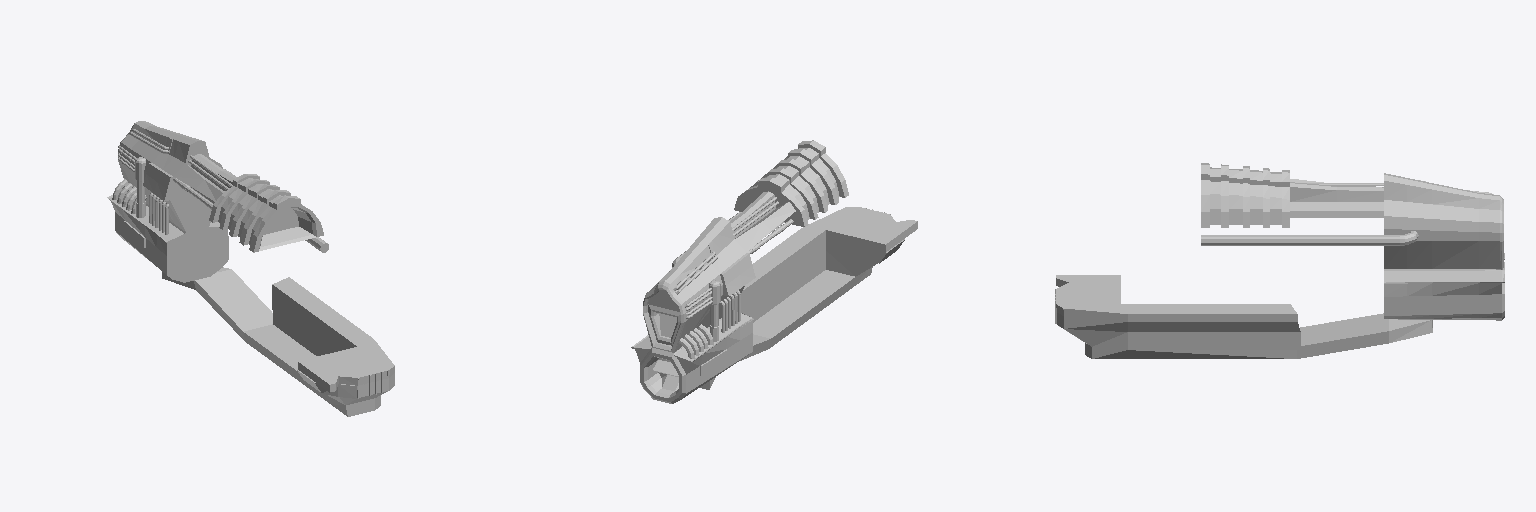
The model's file is Ship_shell.obj.
The picture shows the model from 3 angles: view 1: azimuth 30°, elevation 25°; view 2: azimuth 150°, elevation 25°; view 3: azimuth 270°, elevation 25°; orthographic projection.
Visible parts, largest first — view 1: pCylinder50; view 2: pCylinder50; view 3: pCylinder50.
Boxes of the visible parts, x1,y1,x2,y2 form: pCylinder50: [107, 121, 394, 416]; pCylinder50: [631, 140, 917, 403]; pCylinder50: [1055, 163, 1504, 358].
Size of the model in its own units: 173 by 348 by 804.